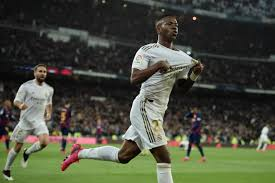barcelona: (179, 106, 210, 162), (57, 101, 75, 157), (1, 98, 13, 149)
realmadrid: (71, 12, 202, 183), (7, 61, 52, 183), (255, 123, 272, 156)
